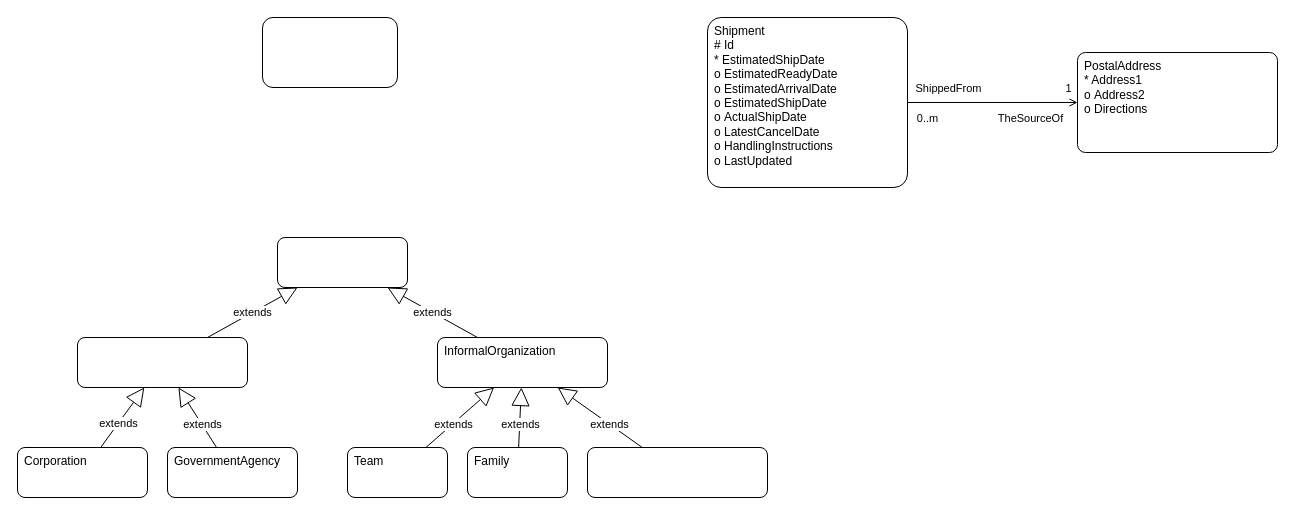
Some shapes in this 1295 by 515 pixel diagram are drawn without their labels. The shapes that lost their labels are listed below. From the top down, each one's centre as x and y in pixels, then its label:
the point at 330,52: Order # Id * OrderDate o EntryDate
the point at 342,262: Organization * Name
the point at 162,362: LegalOrganization o FederalTaxIdNum
the point at 677,472: OtherInformalOrganization
